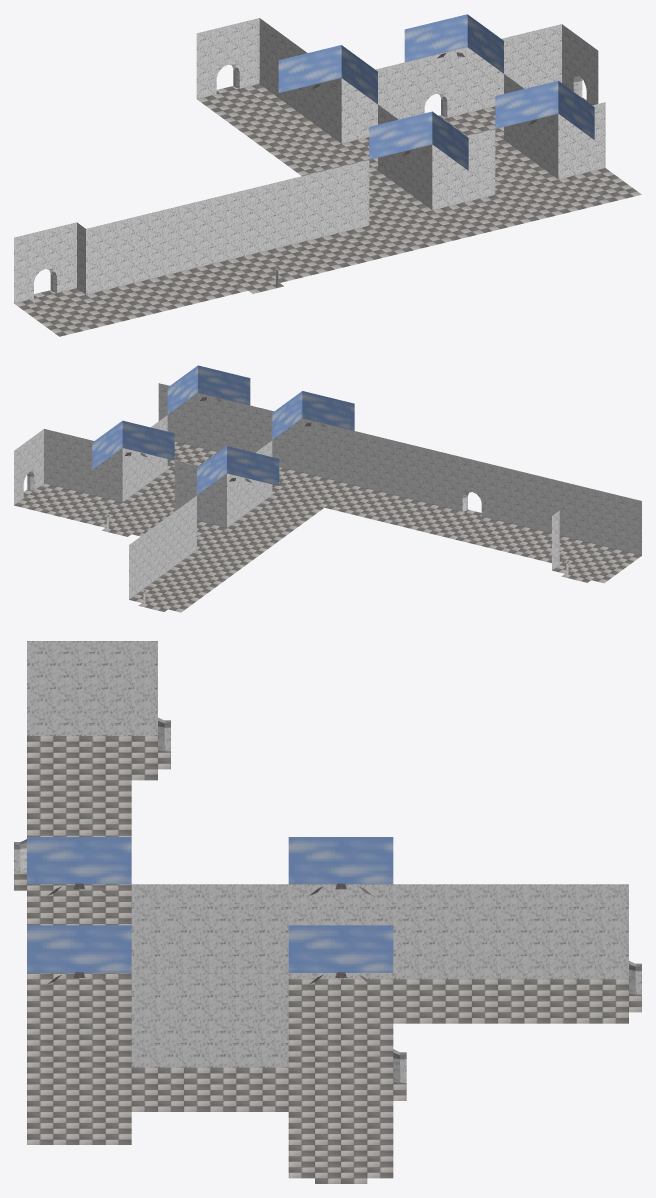
Rendered from Hallway6.glb.
3 renders of one model, top to bottom at view 1: azimuth 30°, elevation 25°; view 2: azimuth 150°, elevation 25°; view 3: azimuth 270°, elevation 25°, orthographic. The views are drawn at different scales.
Parts seen in each view (by area): view 1: Walls.005, Floor.005, Sky.005; view 2: Walls.005, Floor.005, Sky.005; view 3: Floor.005, Walls.005, Sky.005.
Boxes of the visible parts, left/top/right/bottom form: Walls.005: left=14, top=18, right=605, bottom=303; Floor.005: left=14, top=84, right=641, bottom=336; Sky.005: left=278, top=14, right=594, bottom=170; Walls.005: left=14, top=383, right=641, bottom=606; Floor.005: left=14, top=442, right=641, bottom=612; Sky.005: left=92, top=365, right=354, bottom=494; Floor.005: left=14, top=736, right=641, bottom=1183; Walls.005: left=14, top=641, right=641, bottom=1082; Sky.005: left=27, top=837, right=393, bottom=972.
Size of the model in its own units: 40.5 by 6 by 24.
4 materials, 4 textured.
